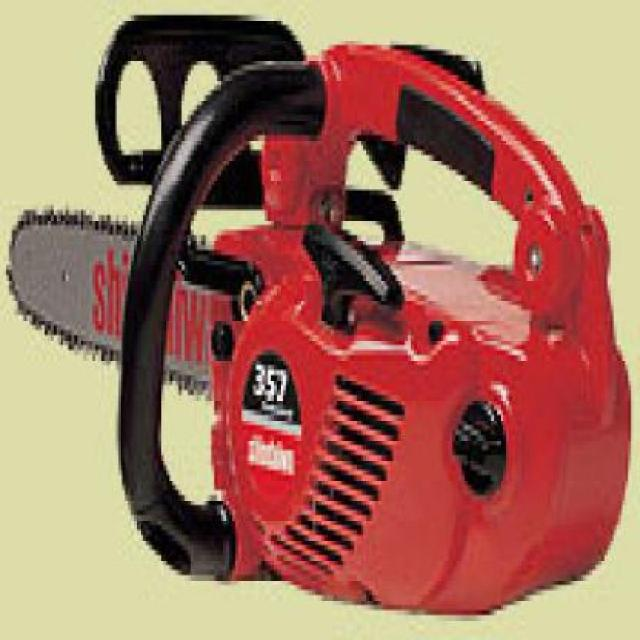Chainsaw: (4, 12, 630, 616)
